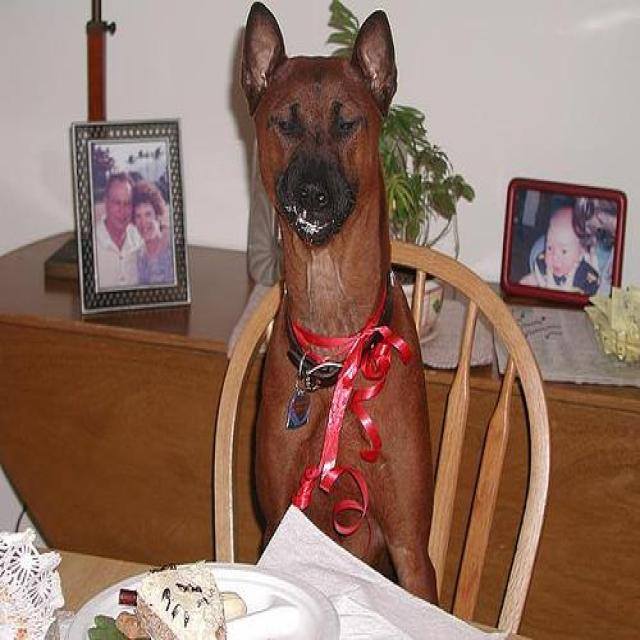rhodesian_ridgeback: (238, 1, 440, 612)
